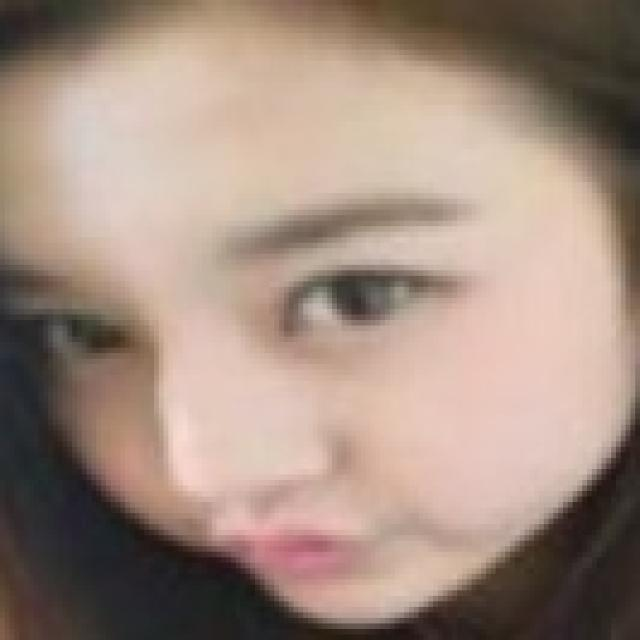no_mask: (28, 74, 627, 608)
